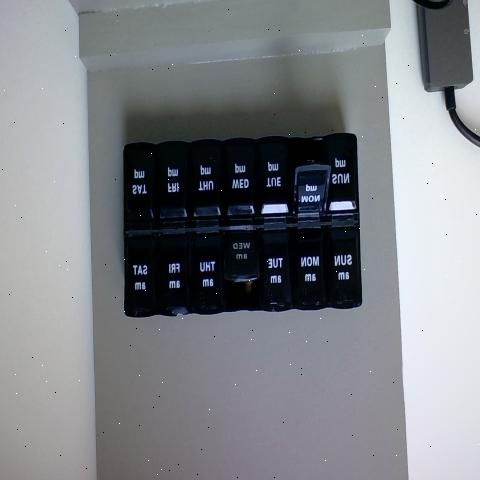FRI-am: (158, 235, 192, 314)
FRI-pm: (159, 146, 188, 218)
MON-am: (294, 228, 328, 306)
Open: (226, 232, 263, 309), (291, 140, 328, 196)
PillBox: (103, 111, 373, 340)
SAT-am: (126, 233, 158, 313)
SAT-pm: (127, 143, 155, 225)
SUN-am: (332, 224, 360, 306)
SUN-pm: (329, 137, 355, 213)
THU-am: (194, 230, 228, 310)
THU-pm: (190, 133, 224, 216)
TUE-am: (265, 226, 297, 305)
TUE-pm: (260, 137, 289, 214)
WED-pm: (226, 140, 257, 220)
